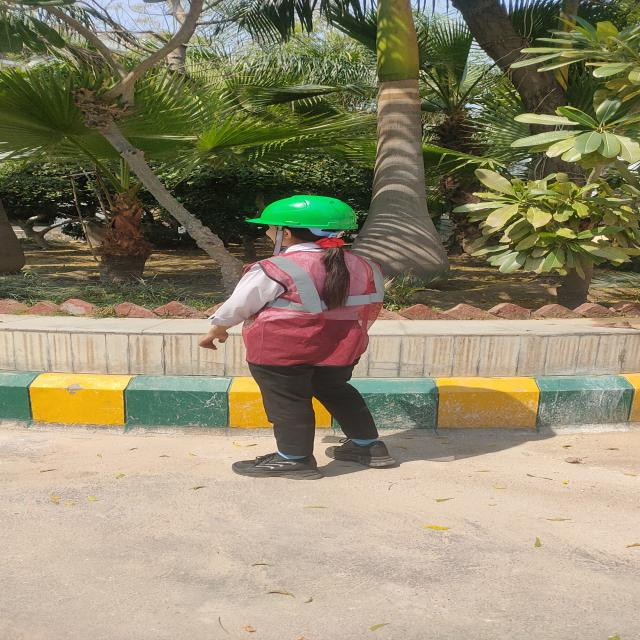safe: (242, 195, 398, 479)
